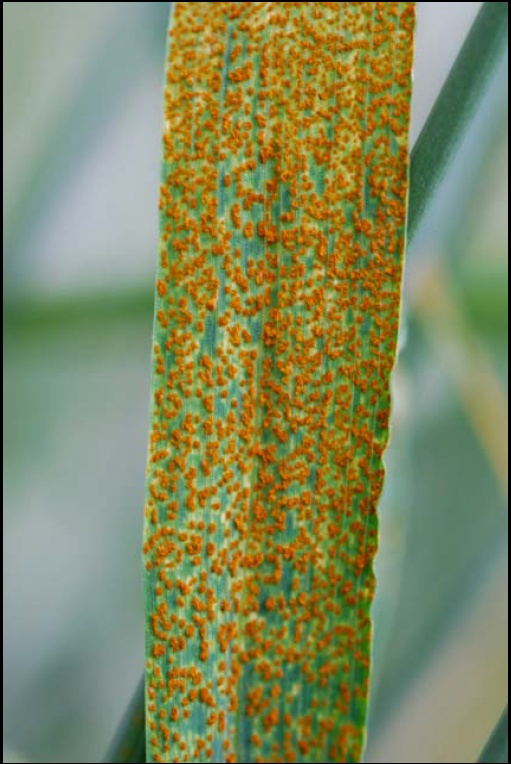Leaf Rust: (151, 67, 392, 652)
